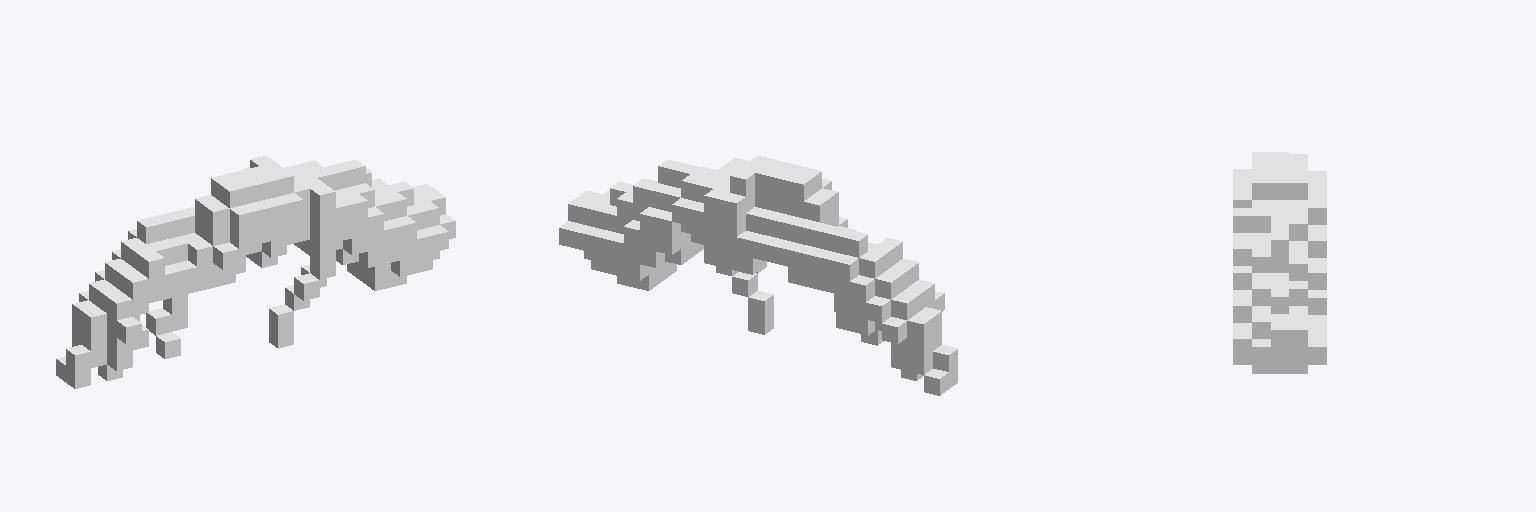
Rendered from Liana2.obj.
The picture shows the model from 3 angles: view 1: azimuth 30°, elevation 25°; view 2: azimuth 150°, elevation 25°; view 3: azimuth 270°, elevation 25°; orthographic projection.
Visible parts, largest first — view 1: object 1; view 2: object 1; view 3: object 1.
Part boxes in pixels (x1,y1,x2,y2): object 1: (56, 156, 455, 388); object 1: (559, 156, 957, 395); object 1: (1233, 152, 1326, 373).
Size of the model in its own units: 2.3 by 1 by 0.5.